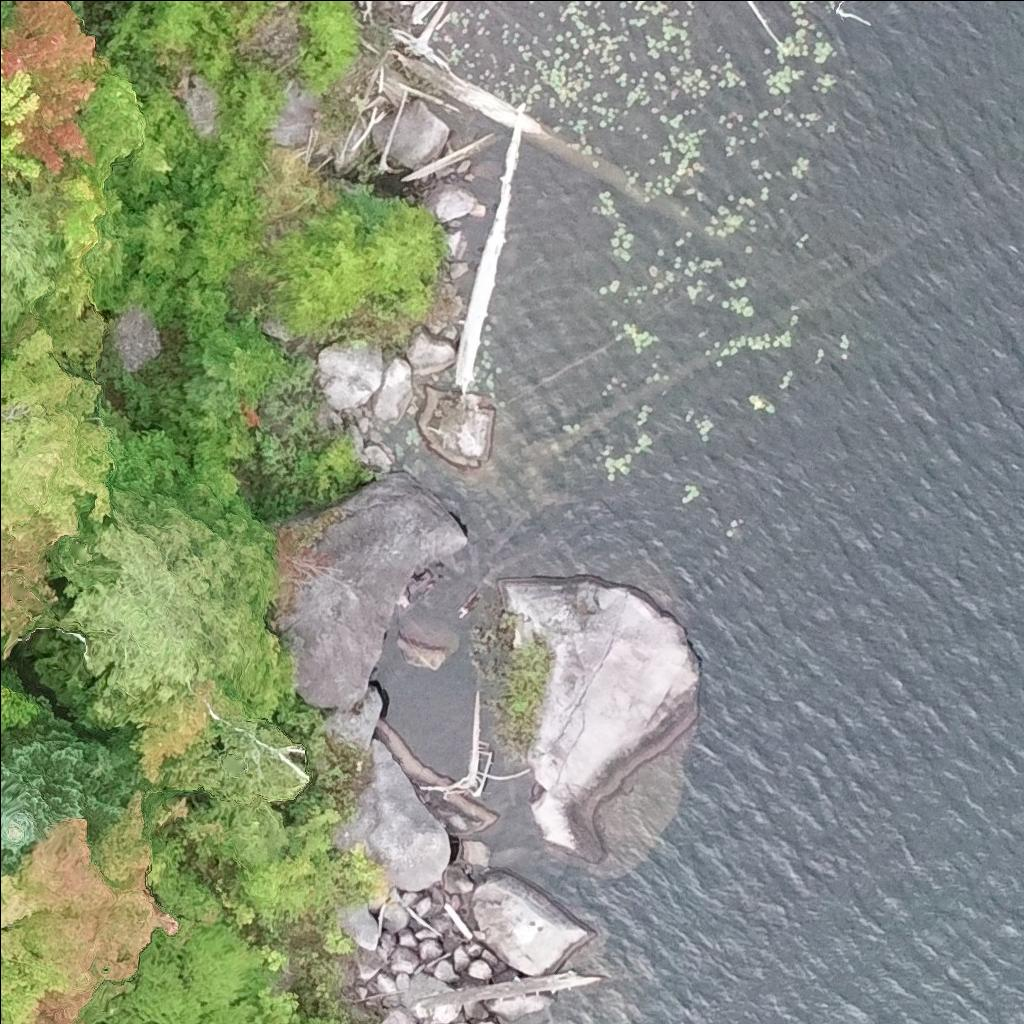crown: (17, 482, 280, 737), (0, 791, 226, 1023), (0, 326, 114, 658), (0, 701, 140, 871), (0, 0, 110, 177), (270, 205, 374, 329), (0, 179, 63, 340), (362, 195, 439, 296), (0, 51, 43, 181), (284, 1013, 337, 1023), (0, 233, 8, 257)
